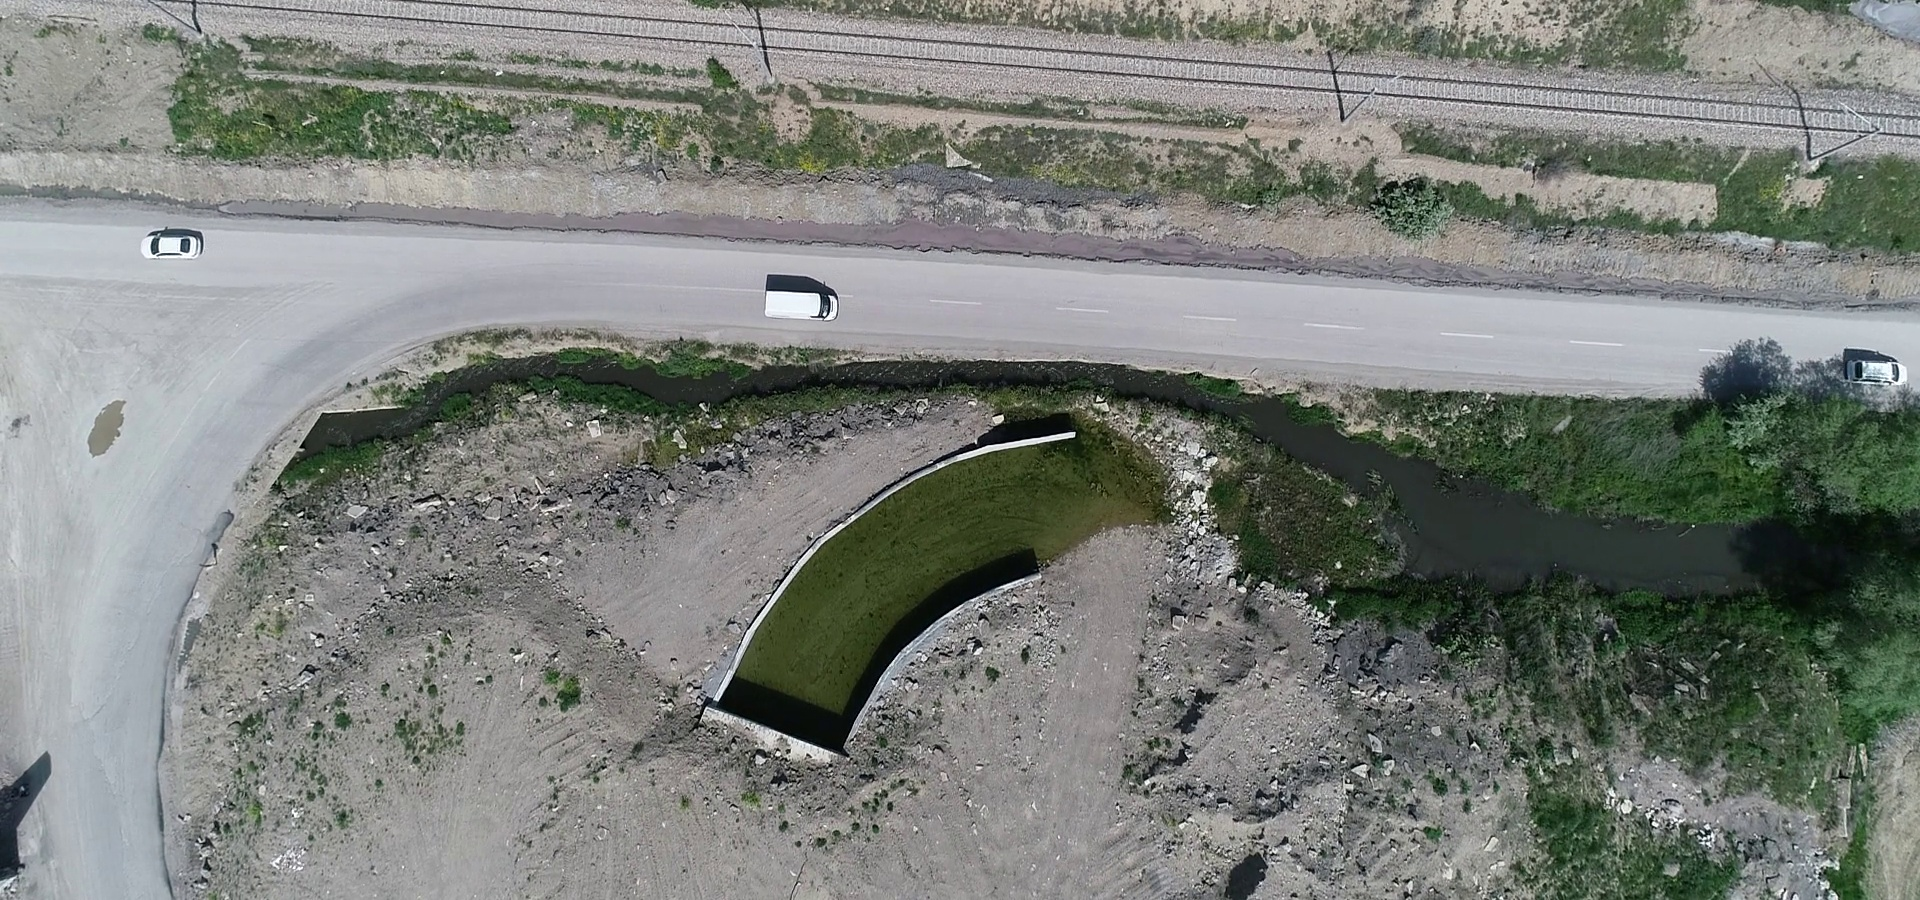araba: (762, 277, 842, 336), (1837, 351, 1903, 398), (142, 227, 211, 269)
